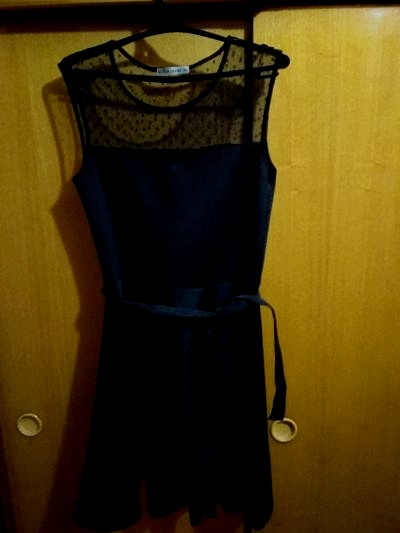Dress: (32, 28, 309, 526)
